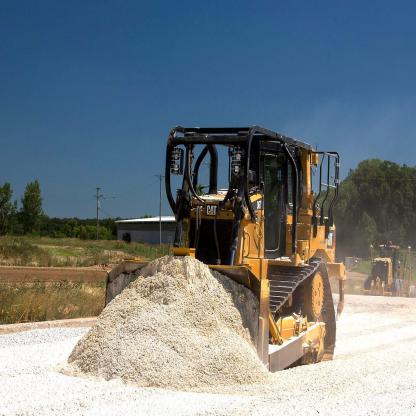bull_dozer/loader/grader: (100, 106, 351, 372)
